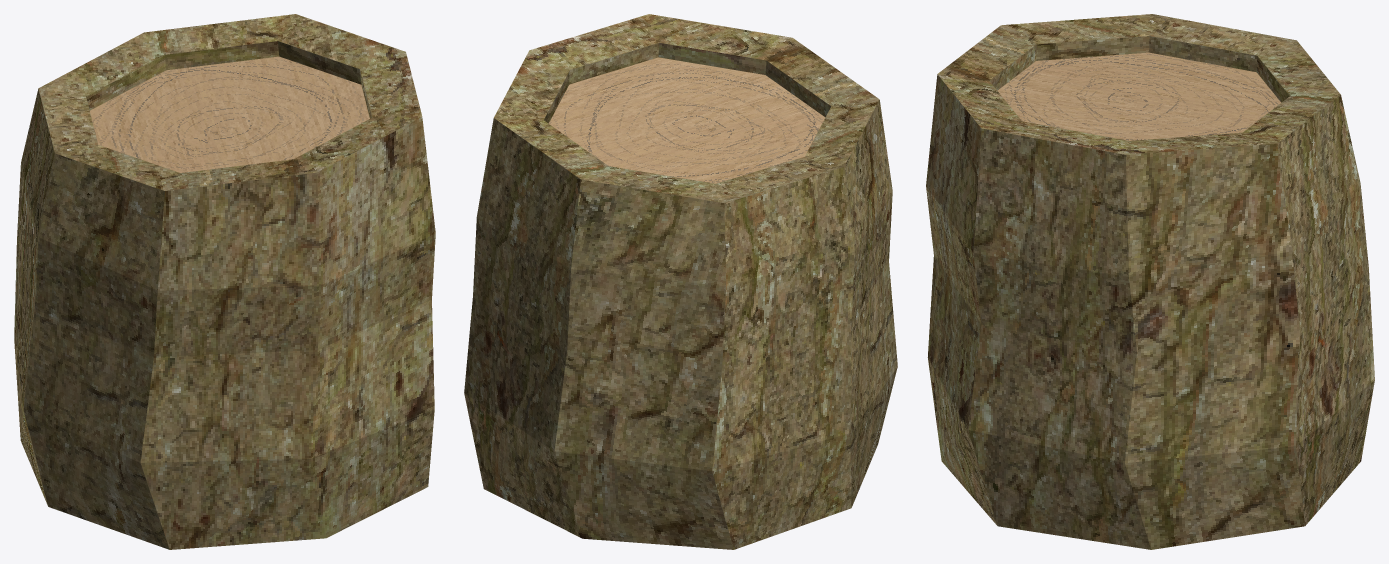
The model's file is AutumnLog.glb.
The picture shows the model from 3 angles, left to right: view 1: azimuth 30°, elevation 25°; view 2: azimuth 150°, elevation 25°; view 3: azimuth 270°, elevation 25°; orthographic projection. The views are drawn at different scales.
Parts seen in each view (by area): view 1: Plane; view 2: Plane; view 3: Plane.
Part boxes in pixels (x1=…): Plane: x1=14, y1=14, x2=435, y2=549; Plane: x1=464, y1=14, x2=897, y2=549; Plane: x1=926, y1=14, x2=1374, y2=549.
Size of the model in its own units: 1.11 by 1.1 by 1.11.
2 materials, 2 textured.
